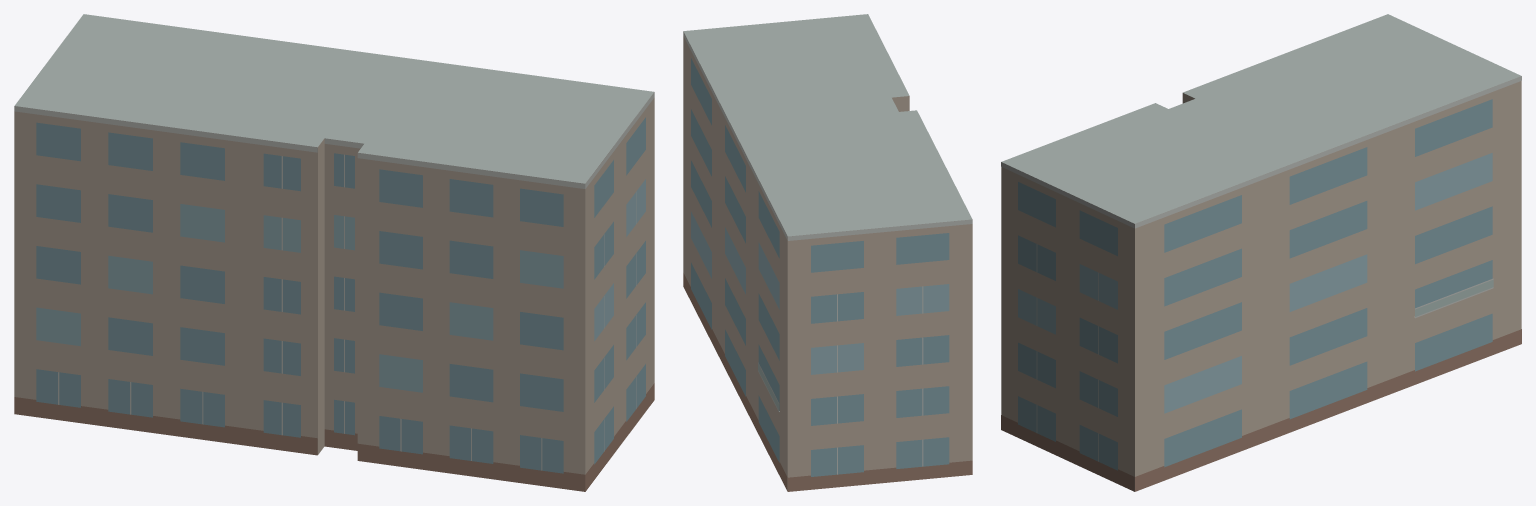
The model's file is survey-upis-32833409.glb.
The picture shows the model from 3 angles, left to right: view 1: azimuth 30°, elevation 25°; view 2: azimuth 150°, elevation 25°; view 3: azimuth 270°, elevation 25°; orthographic projection. The views are drawn at different scales.
Parts seen in each view (by area): view 1: survey-upis-32833409.tmp; view 2: survey-upis-32833409.tmp; view 3: survey-upis-32833409.tmp.
Part boxes in pixels (x1,y1,x2,y2): survey-upis-32833409.tmp: [14, 14, 654, 491]; survey-upis-32833409.tmp: [683, 14, 972, 491]; survey-upis-32833409.tmp: [1001, 14, 1521, 491].
Bounding box in the file's own units: 23.19 × 13.8 × 24.31.
